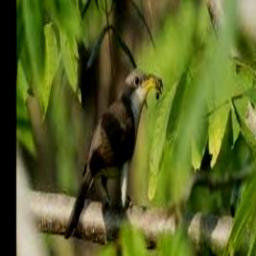Cuckoo: (64, 70, 161, 239)
